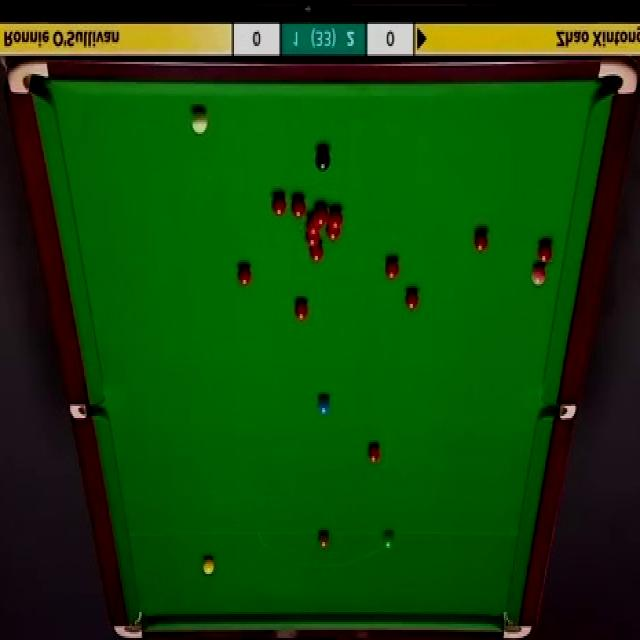black-ball: (315, 147, 331, 173)
blue-ball: (317, 398, 330, 416)
brown-ball: (317, 531, 330, 548)
green-ball: (382, 531, 395, 551)
pink-ball: (530, 262, 548, 286)
red-ball: (474, 228, 489, 253), (314, 201, 328, 226), (236, 265, 252, 286), (328, 208, 344, 229), (294, 298, 308, 322), (291, 197, 306, 219), (272, 195, 287, 217), (537, 240, 552, 262), (368, 440, 382, 462), (384, 258, 398, 279), (326, 224, 340, 242), (406, 290, 418, 310), (306, 214, 319, 232), (311, 242, 322, 263), (306, 227, 319, 243)
white-ball: (192, 108, 210, 134)
yellow-ball: (202, 555, 214, 576)
